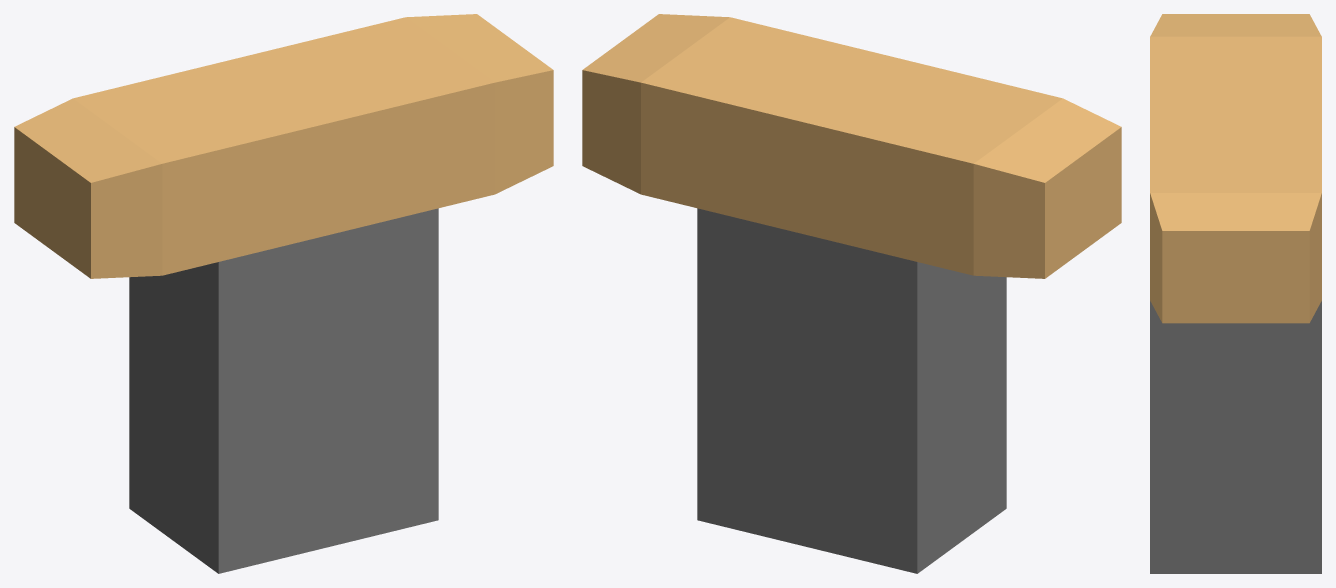
File: palanca de velocidad.fbx
3 views of the same model, side by side, from view 1: azimuth 30°, elevation 25°; view 2: azimuth 150°, elevation 25°; view 3: azimuth 270°, elevation 25° (orthographic). The views are drawn at different scales.
Visible parts, largest first — view 1: Cube.018; view 2: Cube.018; view 3: Cube.018.
Part boxes in pixels (x1=…): Cube.018: x1=14, y1=14, x2=553, y2=573; Cube.018: x1=582, y1=14, x2=1121, y2=573; Cube.018: x1=1150, y1=14, x2=1321, y2=573.
Size of the model in its own units: 23.49 by 20.56 by 7.85.
